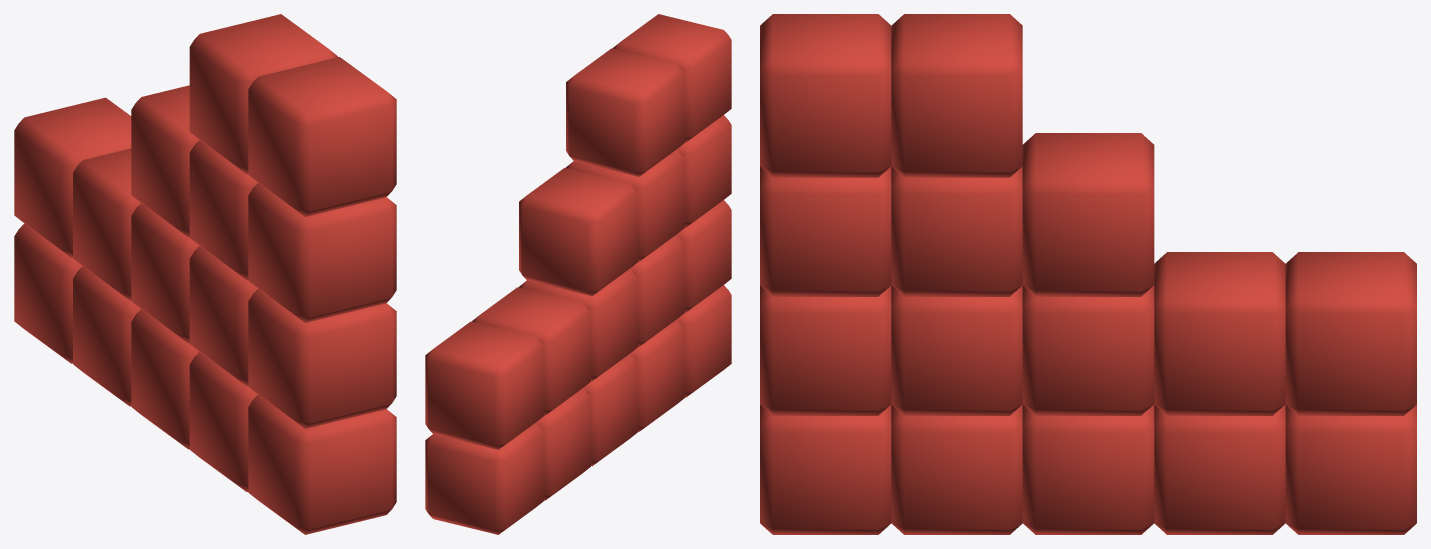
The model's file is obstacle-009.fbx.
3 views of the same model, side by side, from view 1: azimuth 30°, elevation 25°; view 2: azimuth 150°, elevation 25°; view 3: azimuth 270°, elevation 25° (orthographic). The views are drawn at different scales.
Parts seen in each view (by area): view 1: obstacle-009; view 2: obstacle-009; view 3: obstacle-009.
Boxes of the visible parts, x1,y1,x2,y2 form: obstacle-009: (14, 14, 396, 534); obstacle-009: (425, 14, 731, 534); obstacle-009: (760, 14, 1416, 534).
Size of the model in its own units: 200 by 800 by 1000.
